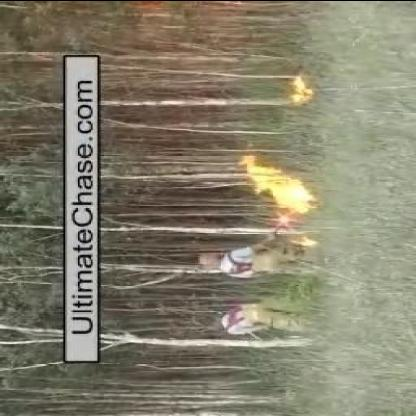foggia-v2-map80-epoch100 - v1 4323: (236, 155, 312, 212), (289, 75, 315, 102)
